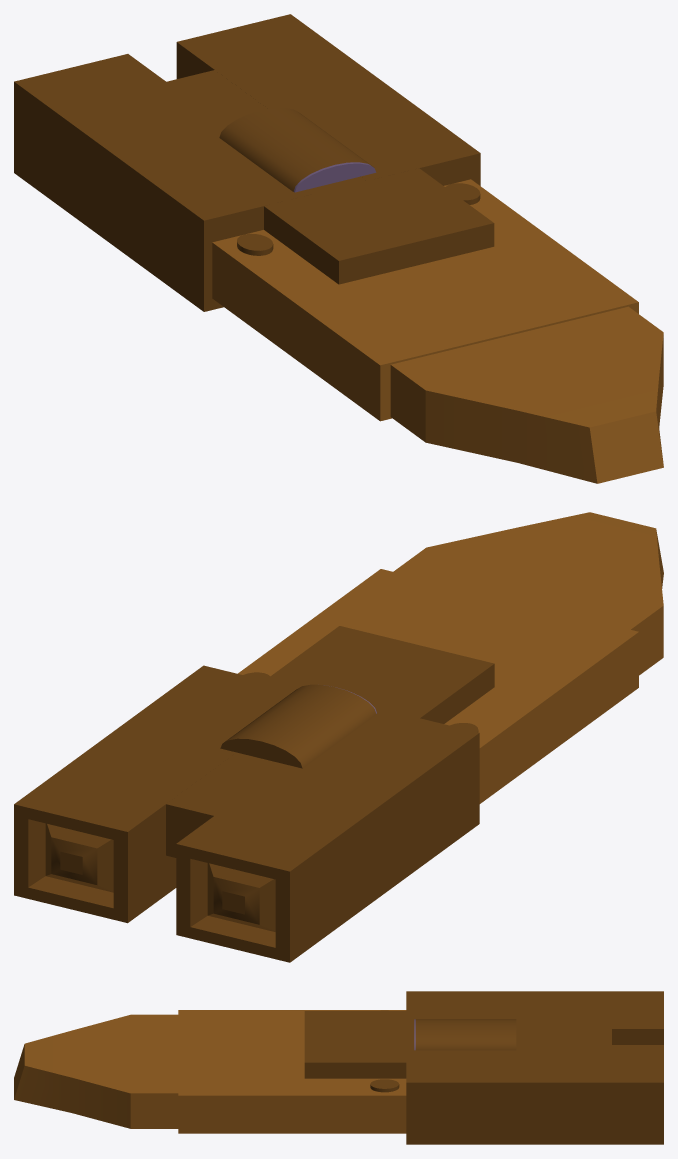
The model's file is fragata reb escalada.fbx.
3 renders of one model, top to bottom at view 1: azimuth 30°, elevation 25°; view 2: azimuth 150°, elevation 25°; view 3: azimuth 270°, elevation 25°, orthographic. The views are drawn at different scales.
Parts seen in each view (by area): view 1: pasted__pCylinder1; view 2: pasted__pCylinder1; view 3: pasted__pCylinder1.
Part boxes in pixels (x1=…): pasted__pCylinder1: x1=14, y1=14, x2=663, y2=483; pasted__pCylinder1: x1=14, y1=512, x2=663, y2=962; pasted__pCylinder1: x1=14, y1=991, x2=663, y2=1144.
Size of the model in its own units: 1321 by 495 by 3962.
